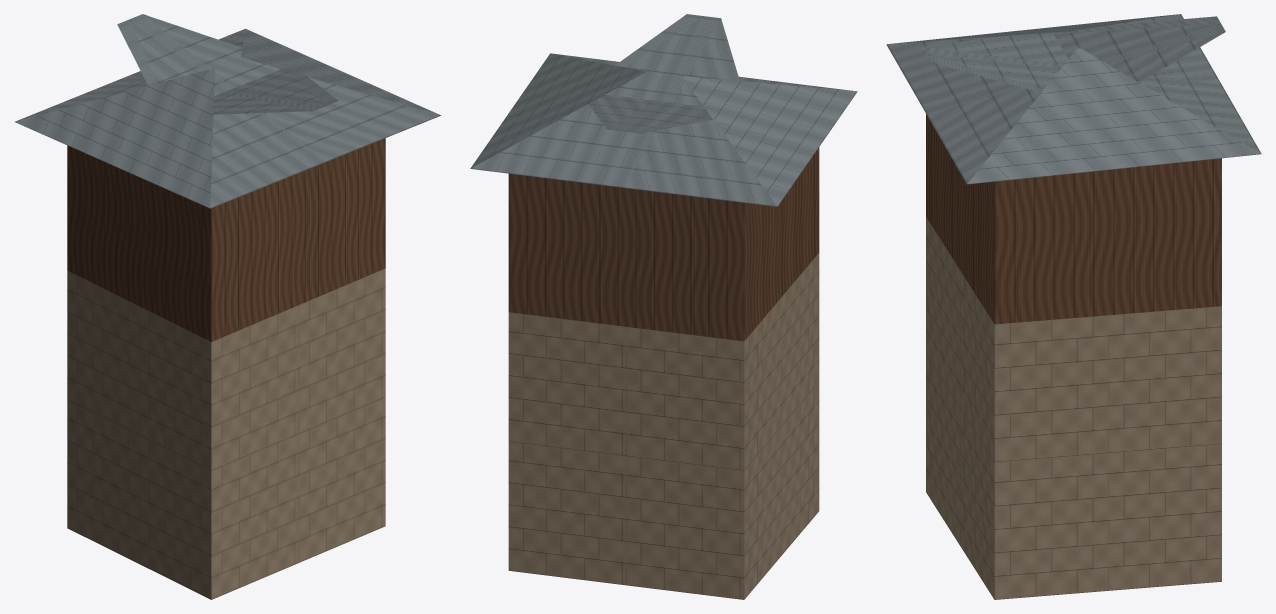
Rendered from bld_c-3_1_540.gltf.
The picture shows the model from 3 angles, left to right: view 1: azimuth 30°, elevation 25°; view 2: azimuth 150°, elevation 25°; view 3: azimuth 270°, elevation 25°; orthographic projection. The views are drawn at different scales.
Visible parts, largest first — view 1: bld_c-3_1_540; view 2: bld_c-3_1_540; view 3: bld_c-3_1_540.
Part boxes in pixels (bbox=[...]): bld_c-3_1_540: bbox=[15, 14, 441, 599]; bld_c-3_1_540: bbox=[470, 14, 857, 599]; bld_c-3_1_540: bbox=[886, 14, 1261, 599].
Size of the model in its own units: 6.1 by 8.3 by 5.68.
Materials: 3 (3 with a texture image).
